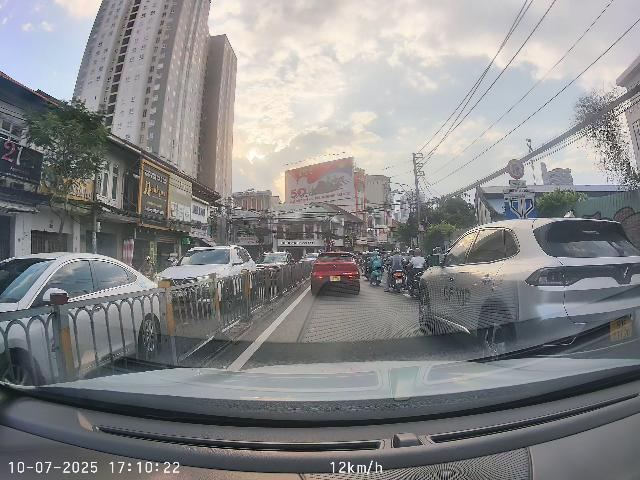124b-cam-oto-quay-dau-xe: (507, 159, 524, 179)
